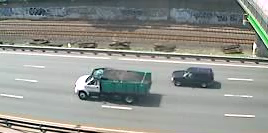car: (71, 65, 157, 106), (169, 65, 215, 90)
